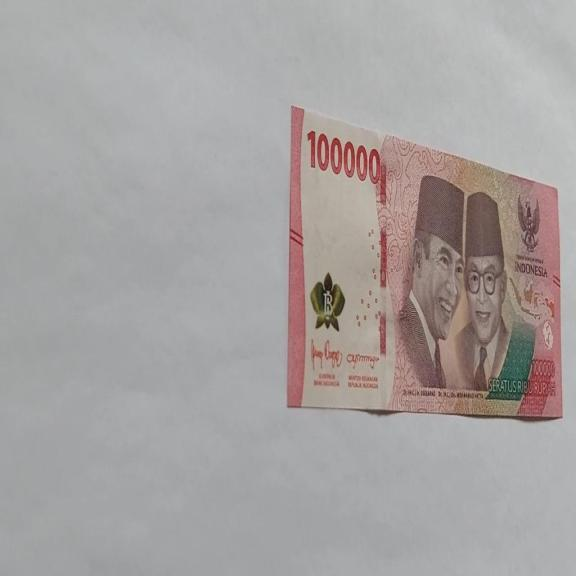Kertas: (286, 105, 562, 419), (306, 128, 381, 185)
